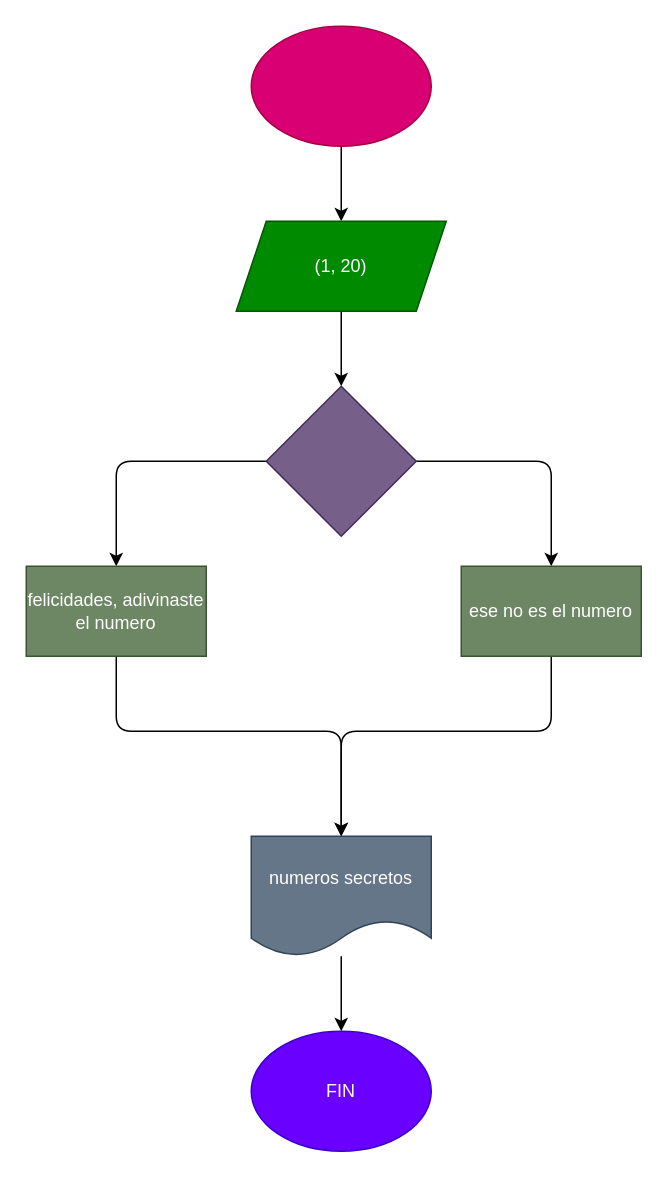
Some shapes in this 668 by 1178 pixel diagram are drawn without their labels. The centre of each missing label's shape, as x and y in pixels:
INICIO: (340,85)
Intentos = 0: (340,460)
